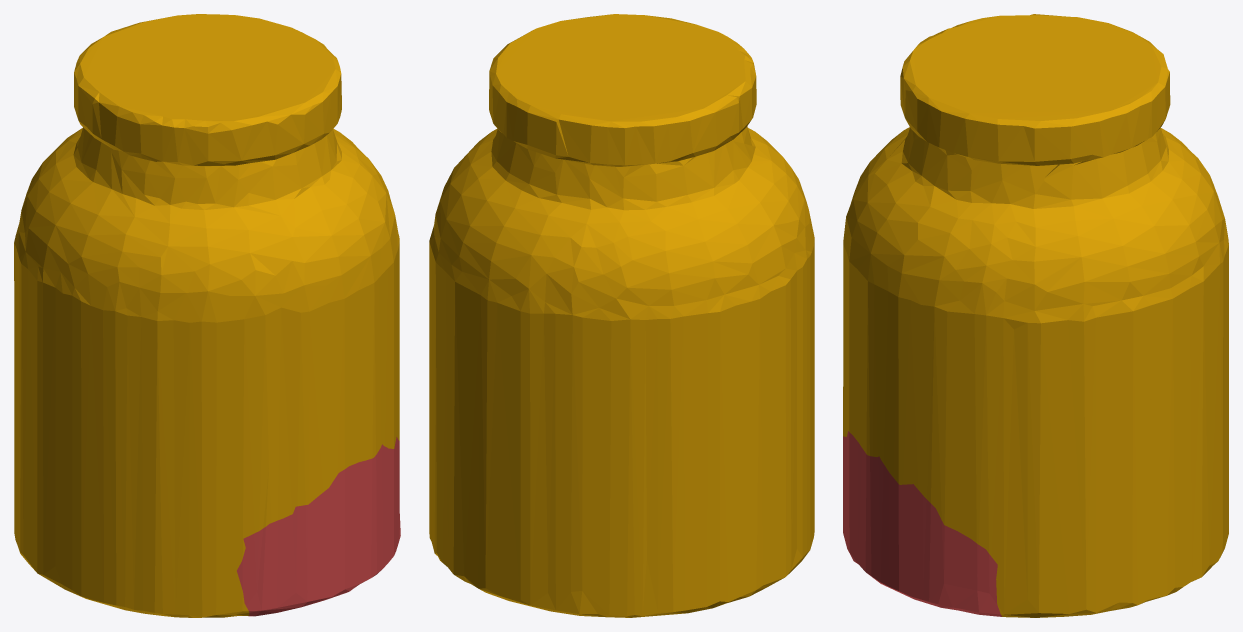
File: fractured_8_2pcs.glb
The picture shows the model from 3 angles, left to right: view 1: azimuth 30°, elevation 25°; view 2: azimuth 150°, elevation 25°; view 3: azimuth 270°, elevation 25°; orthographic projection.
Visible parts, largest first — view 1: piece_0.obj, piece_1.obj; view 2: piece_0.obj; view 3: piece_0.obj, piece_1.obj.
Boxes of the visible parts, bbox=[...] form: piece_0.obj: bbox=[14, 14, 399, 617]; piece_1.obj: bbox=[237, 437, 400, 616]; piece_0.obj: bbox=[429, 14, 814, 617]; piece_0.obj: bbox=[843, 14, 1228, 617]; piece_1.obj: bbox=[843, 431, 1001, 616].
Bounding box in the file's own units: 0.7401 × 1 × 0.74.
